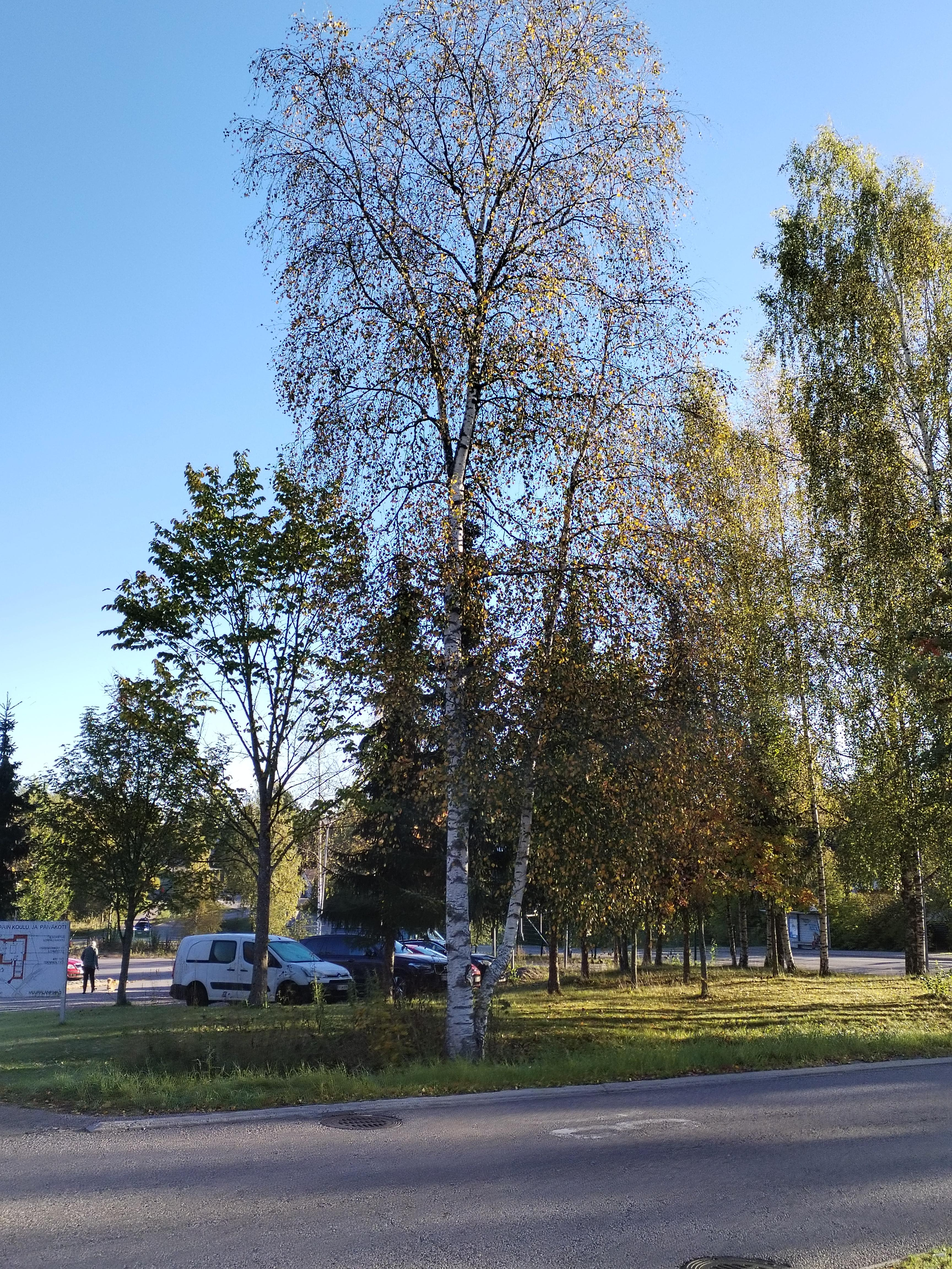Birch: (221, 1, 734, 1061)
